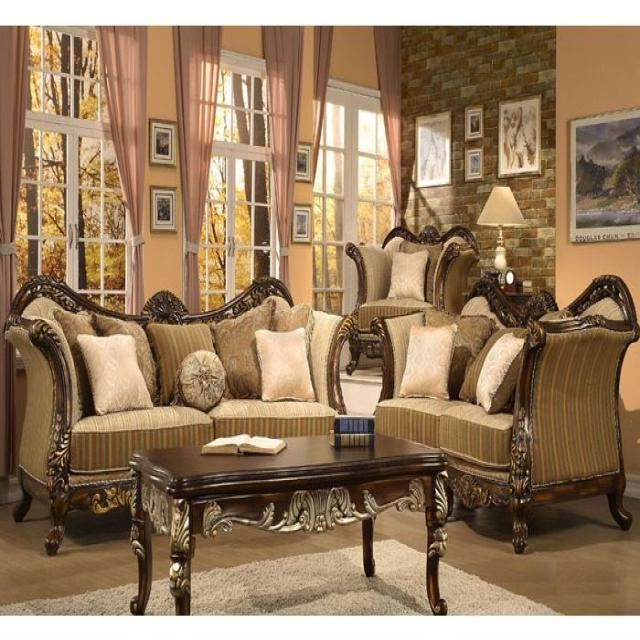sofa: (2, 272, 354, 556), (371, 272, 639, 554), (344, 222, 479, 374)
